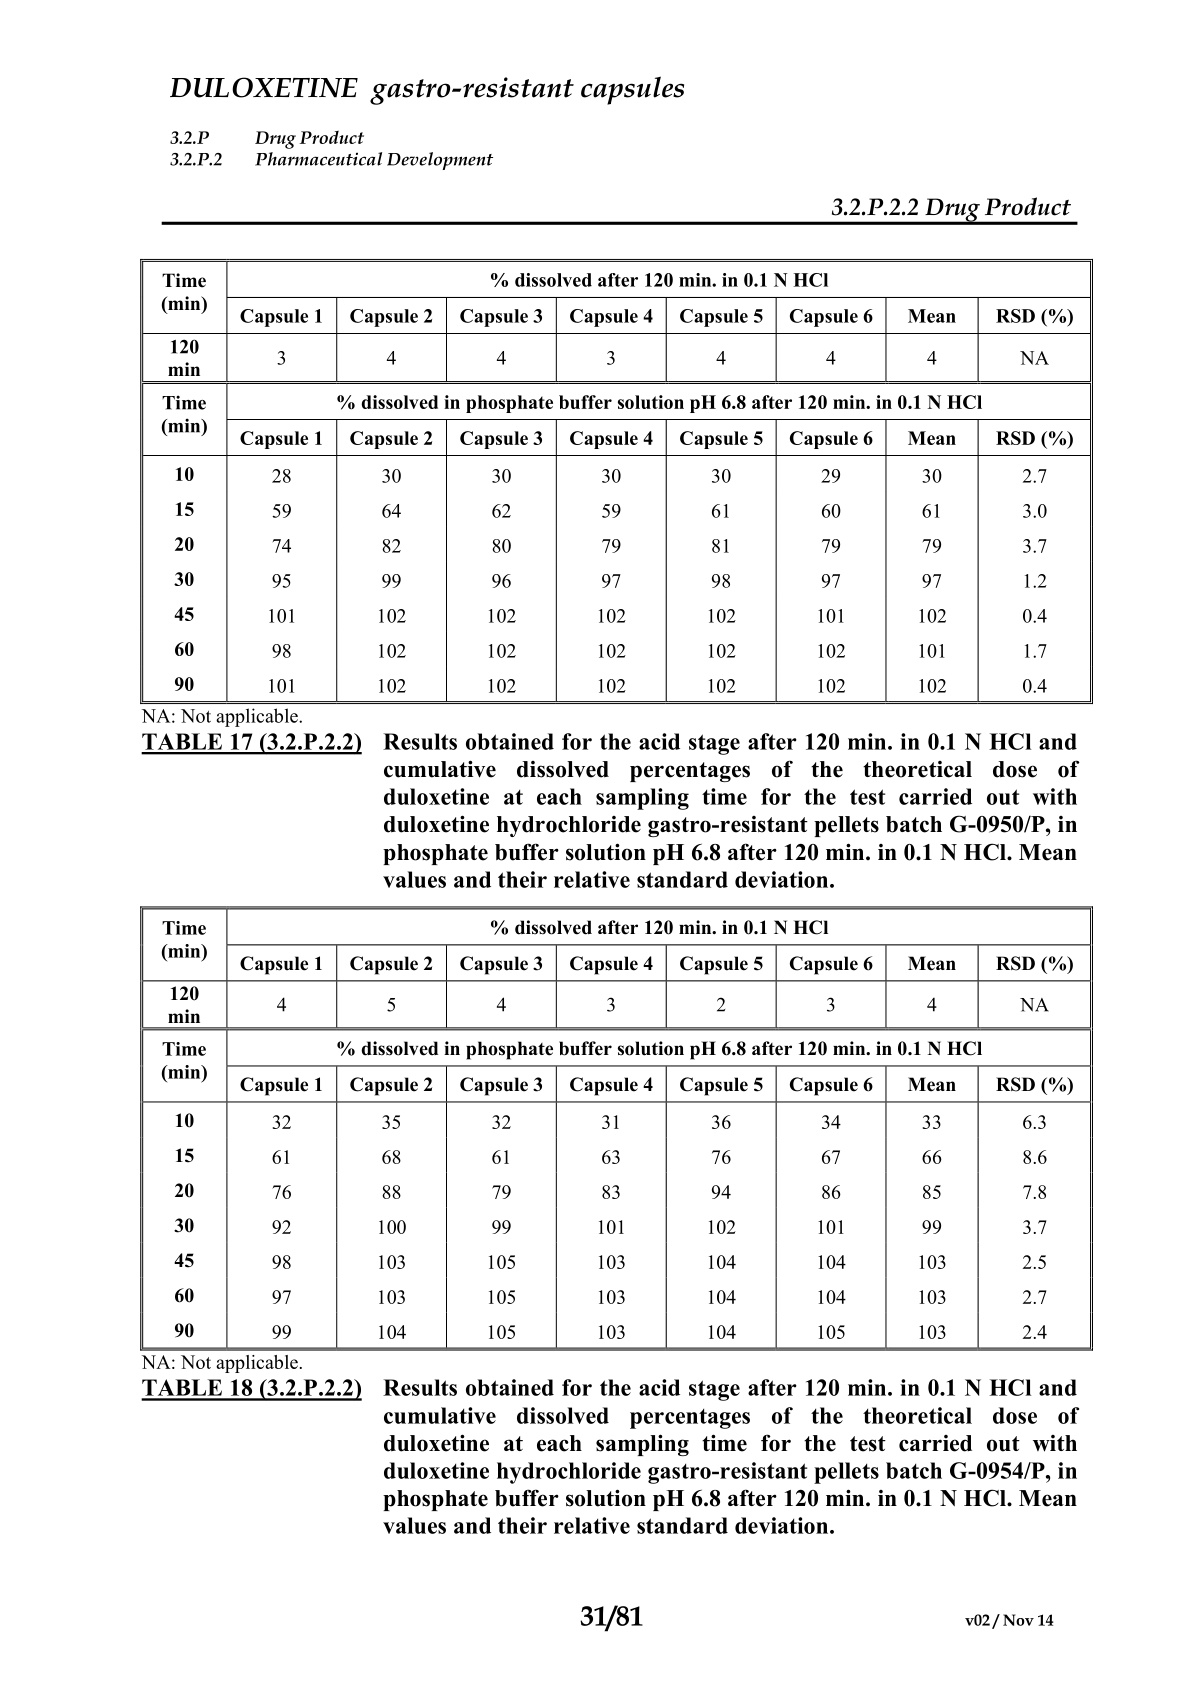merged_cells: (138, 256, 1093, 705), (139, 904, 1093, 1352)
